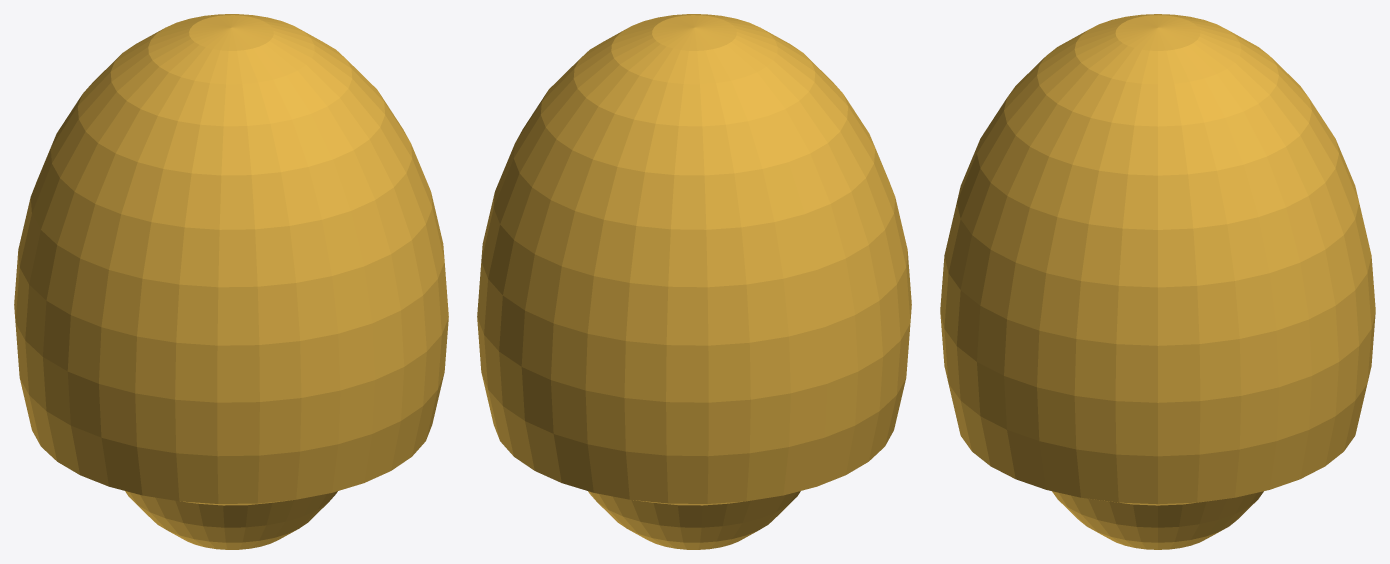
The model's file is egg.fbx.
The picture shows the model from 3 angles, left to right: view 1: azimuth 30°, elevation 25°; view 2: azimuth 150°, elevation 25°; view 3: azimuth 270°, elevation 25°; orthographic projection.
Visible parts, largest first — view 1: Sphere; view 2: Sphere; view 3: Sphere.
Boxes of the visible parts, bbox=[...] form: Sphere: bbox=[14, 14, 448, 549]; Sphere: bbox=[477, 14, 911, 549]; Sphere: bbox=[940, 14, 1375, 549].
Bounding box in the file's own units: 259 × 337 × 259.
